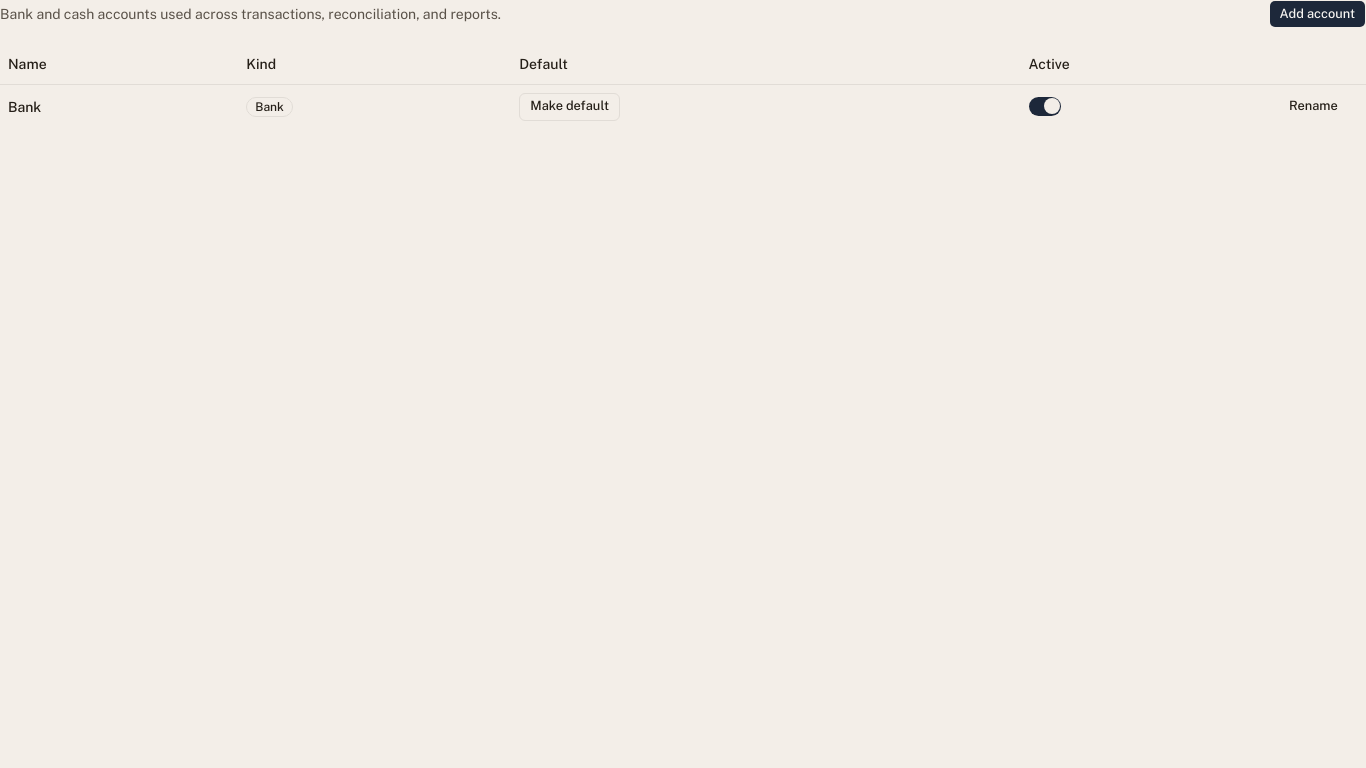
PaymentAccountsManager add and rename dialogs show the rejected save
Click the button "Add account".
click(1317, 14)  # box x1=1269 y1=0 x2=1365 y2=28
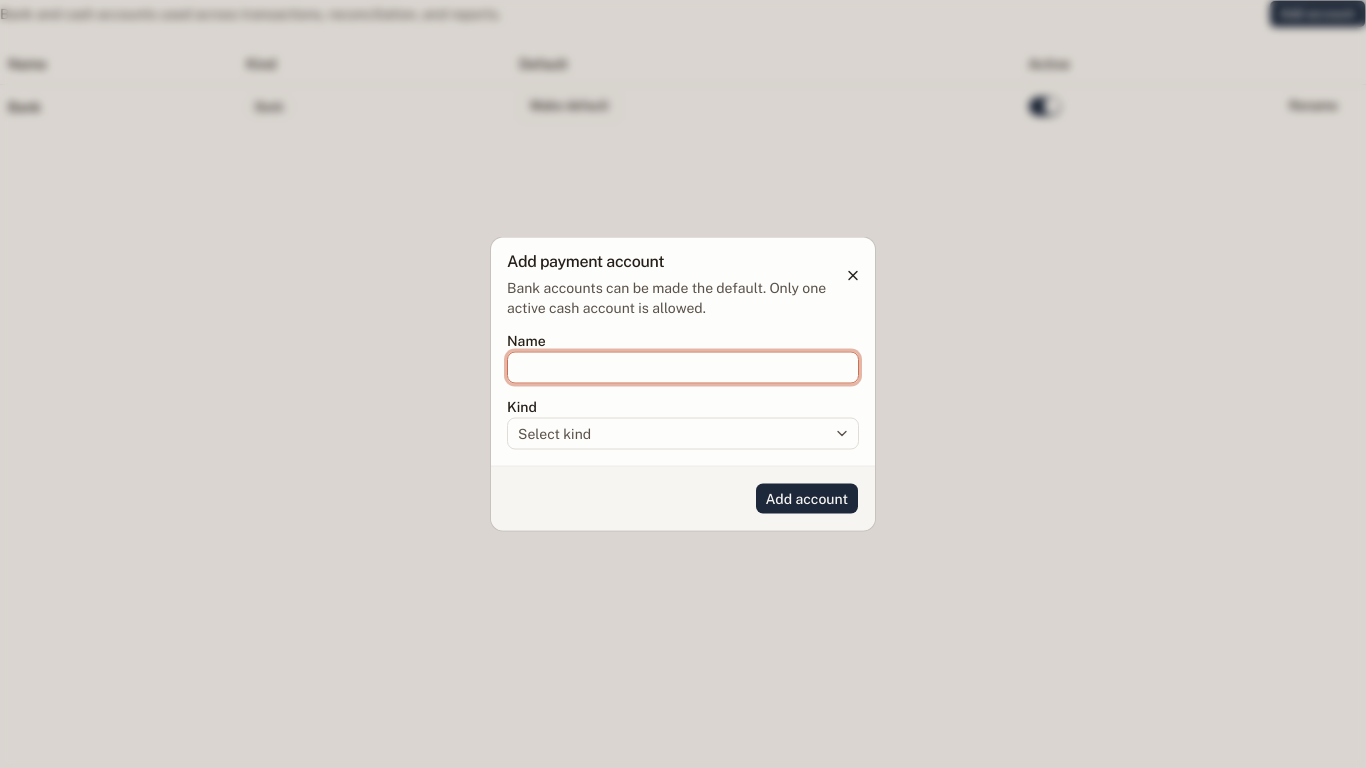
Submit the form, box x1=507 y1=334 x2=859 y2=514
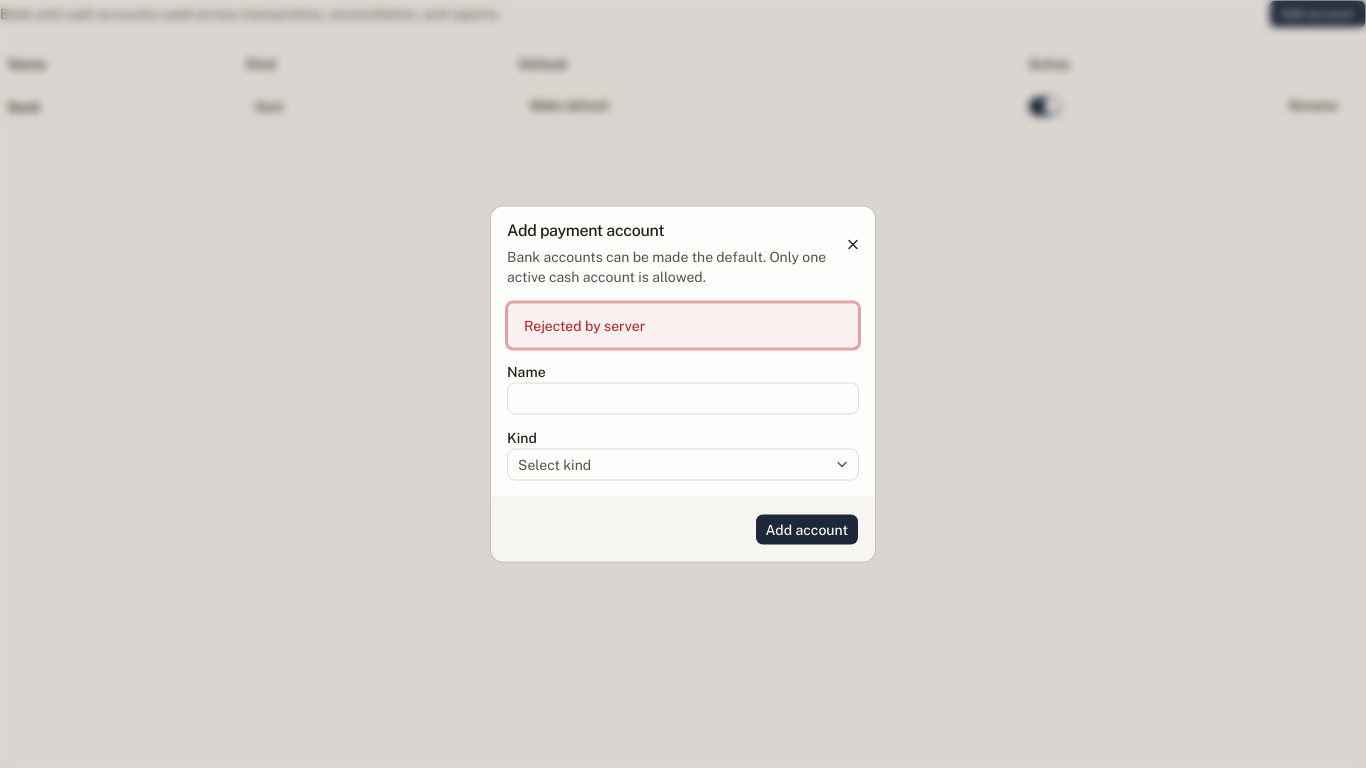
Expected: the message reads "Rejected by server", x1=524 y1=318 x2=645 y2=334
